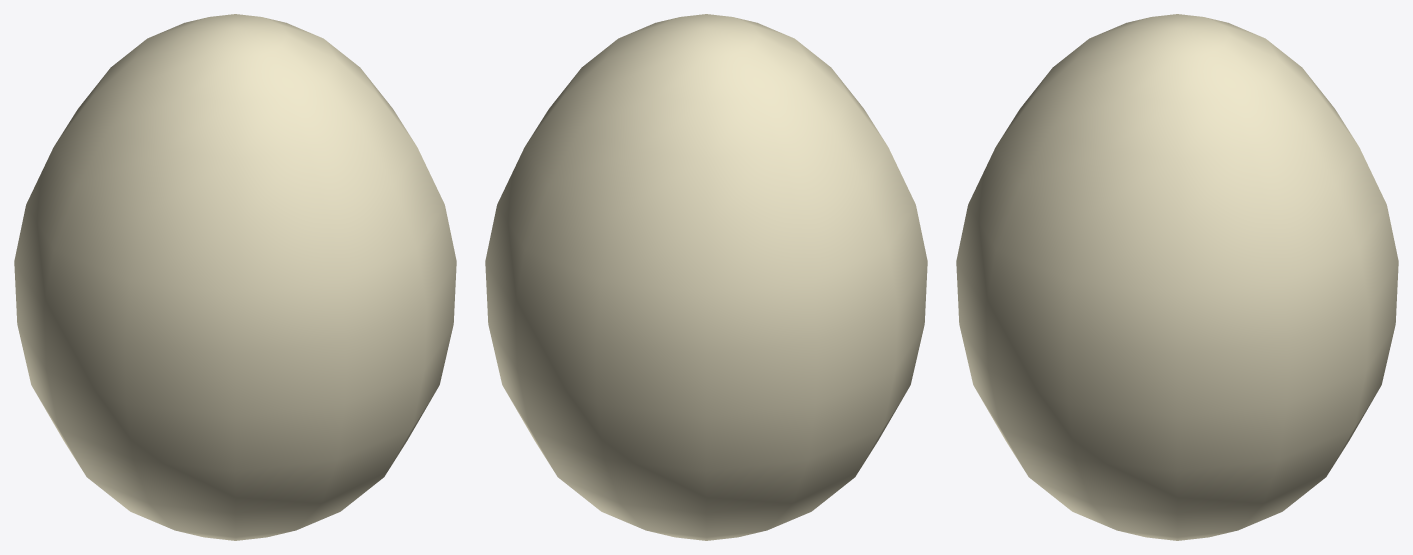
Rendered from atoll_sm_egg.fbx.
3 views of the same model, side by side, from view 1: azimuth 30°, elevation 25°; view 2: azimuth 150°, elevation 25°; view 3: azimuth 270°, elevation 25° (orthographic).
Parts seen in each view (by area): view 1: Egg; view 2: Egg; view 3: Egg.
Part boxes in pixels (left/top/right/bottom): Egg: left=14, top=14, right=456, bottom=540; Egg: left=485, top=14, right=927, bottom=540; Egg: left=956, top=14, right=1398, bottom=540.
Bounding box in the file's own units: 11.3 × 13.97 × 11.3.
